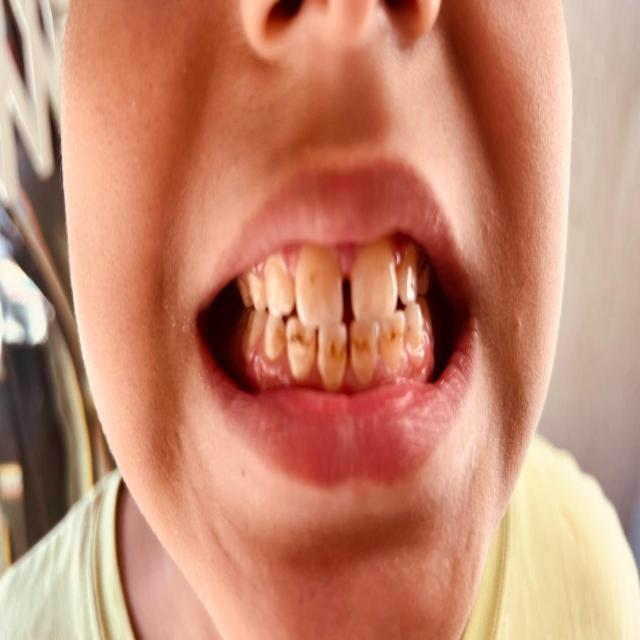tooth: (302, 258, 338, 326), (350, 260, 395, 306), (288, 318, 312, 372), (354, 329, 378, 379), (322, 330, 343, 382), (264, 314, 286, 359), (272, 256, 290, 309), (383, 324, 404, 368), (248, 309, 264, 360), (251, 268, 267, 314), (402, 260, 418, 300), (410, 305, 422, 356)
